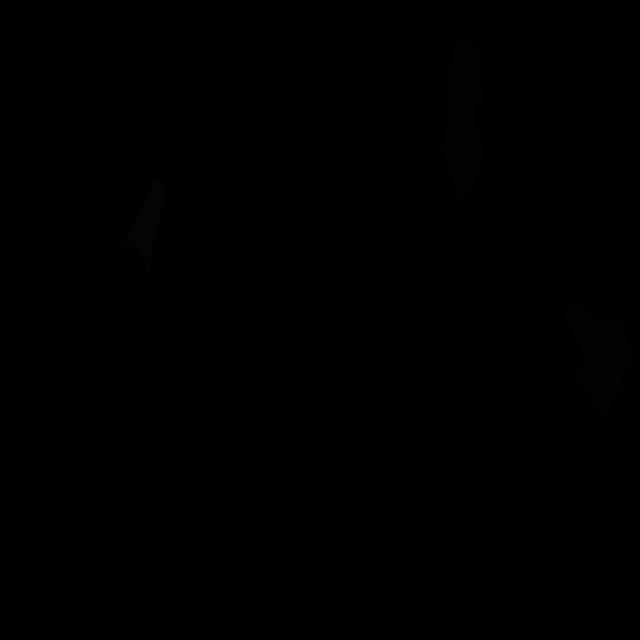cardboard: (560, 303, 634, 418), (442, 33, 486, 207)
rigid_plastic: (360, 356, 436, 502)
soft_plastic: (122, 177, 163, 274)
